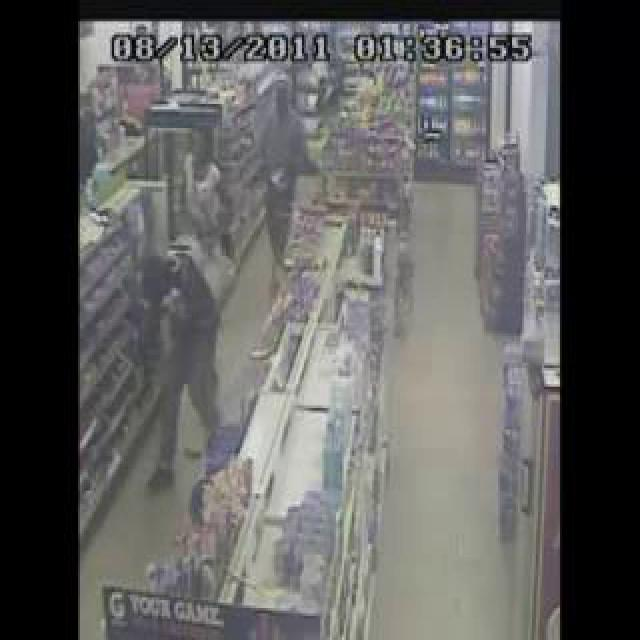burglary: (128, 49, 313, 554)
